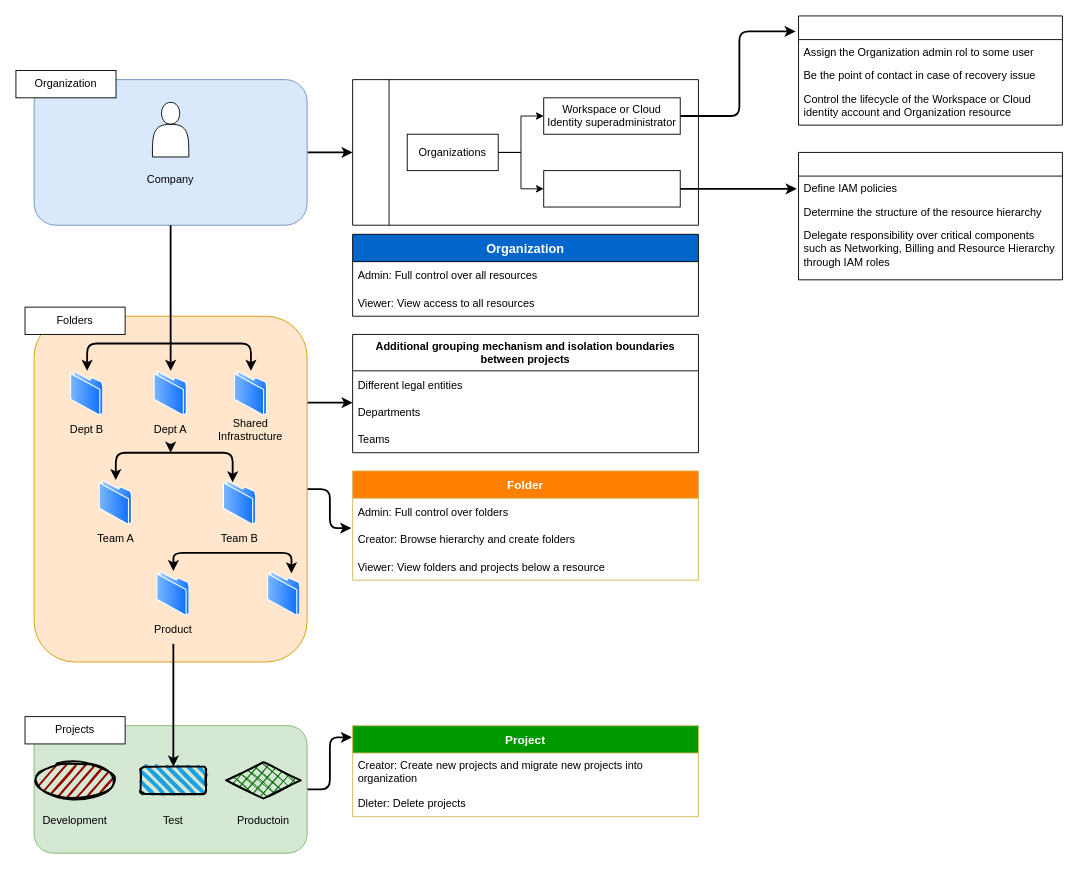
This 1078x869 diagram has some shape labels left out. Each missing label, with the box of its shape:
Authority: (798, 152, 1062, 280)
Autority- useful for auidit: (798, 15, 1062, 125)
Creating & managing organizations: (352, 79, 698, 225)
Organization admin: (543, 170, 680, 207)
